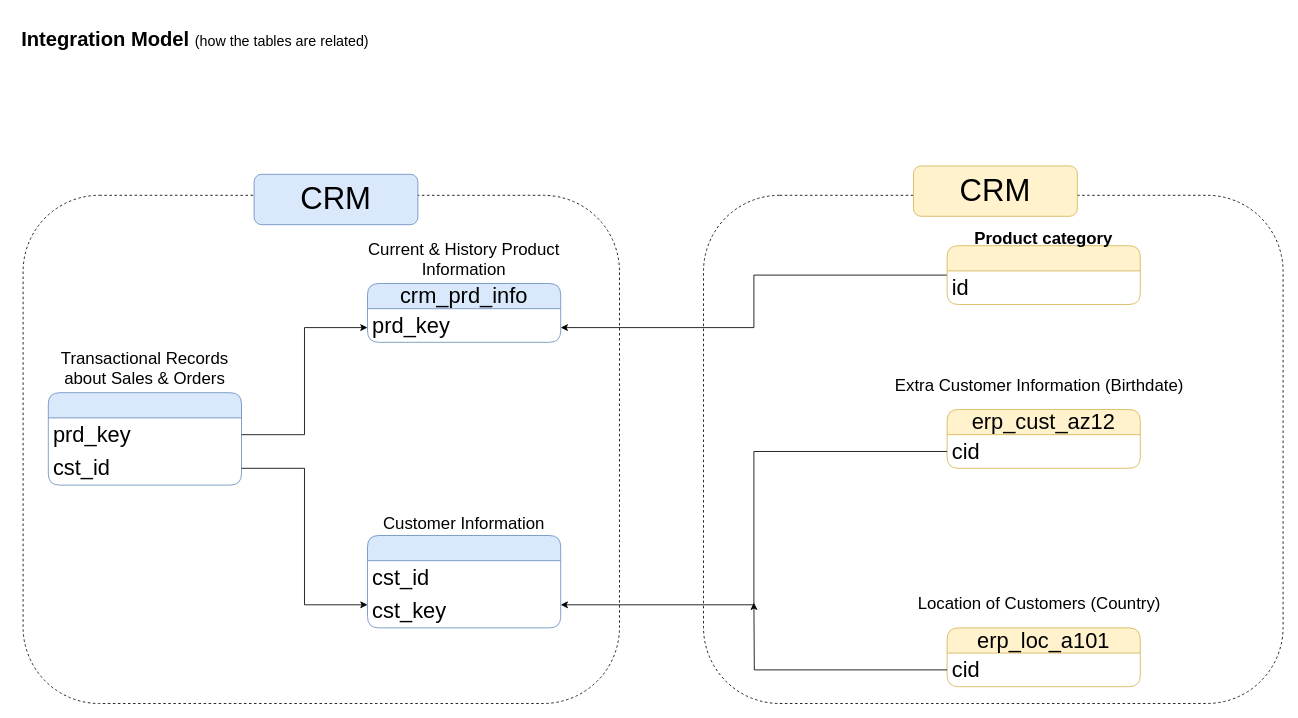
Some shapes in this 1298 by 718 pixel diagram are drawn without their labels. The box of each missing label's shape, as (x1, y1, x2, y2) in pixels:
crm_cust_info: (367, 535, 561, 628)
crm_sales_details: (47, 392, 242, 485)
erp_px_cat_g1v2: (946, 245, 1140, 304)
